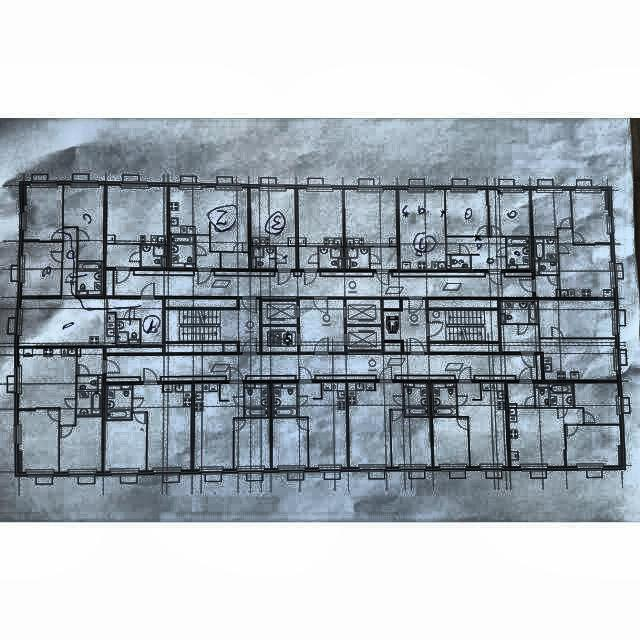room: (106, 354, 542, 381), (107, 270, 532, 297), (501, 324, 617, 380), (507, 383, 583, 467), (169, 187, 249, 251), (133, 384, 192, 470), (165, 298, 259, 351), (348, 382, 403, 467), (19, 298, 115, 345), (19, 347, 76, 425), (457, 381, 508, 468), (299, 382, 348, 468), (194, 383, 243, 469), (557, 226, 613, 299), (399, 189, 446, 270), (107, 185, 168, 243), (64, 184, 104, 260), (345, 188, 397, 246), (538, 300, 615, 337), (251, 188, 296, 245), (298, 188, 343, 245), (19, 408, 59, 472), (108, 298, 163, 344), (105, 412, 146, 471), (391, 409, 432, 467), (566, 424, 622, 466), (60, 416, 102, 472), (300, 299, 344, 352), (383, 299, 427, 352), (21, 241, 62, 296), (571, 188, 611, 244), (23, 184, 62, 241), (429, 310, 498, 341), (488, 189, 530, 236), (532, 188, 572, 237), (446, 189, 488, 235), (447, 237, 506, 269), (575, 383, 620, 424), (234, 418, 270, 469), (272, 418, 307, 468), (434, 417, 469, 467), (77, 376, 103, 415), (62, 228, 77, 295), (403, 381, 429, 417), (77, 261, 103, 296), (501, 300, 538, 323), (535, 237, 558, 274), (262, 326, 296, 351), (432, 382, 457, 416), (245, 383, 270, 416), (107, 385, 131, 419), (346, 300, 380, 324), (347, 327, 382, 350), (170, 235, 195, 267), (273, 383, 297, 416), (196, 235, 220, 268), (106, 244, 140, 267), (262, 301, 297, 323), (506, 237, 530, 269), (78, 348, 102, 374), (141, 245, 166, 268), (371, 247, 397, 269), (550, 383, 573, 407), (117, 320, 140, 344), (251, 246, 275, 268), (319, 247, 343, 268), (346, 247, 369, 268), (536, 276, 559, 297), (276, 246, 296, 269), (299, 246, 318, 269), (221, 253, 248, 268), (535, 382, 549, 407), (447, 255, 470, 268)
